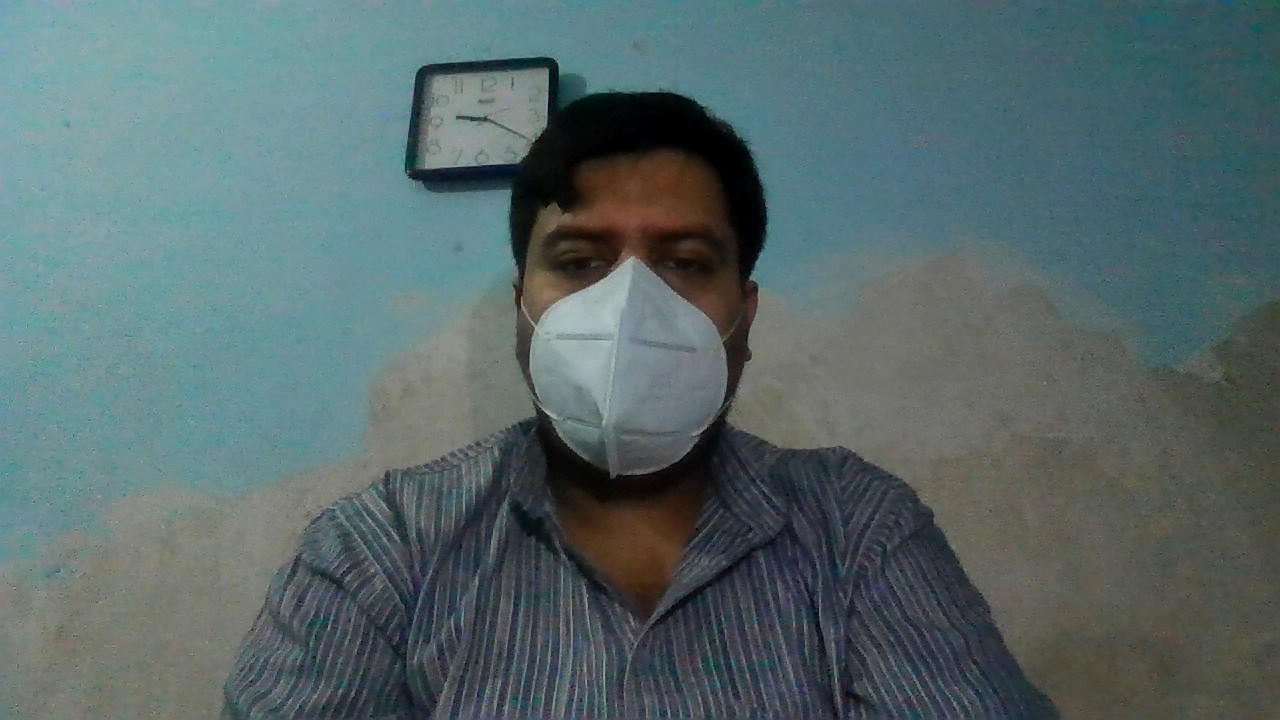Mask: (510, 257, 761, 478)
